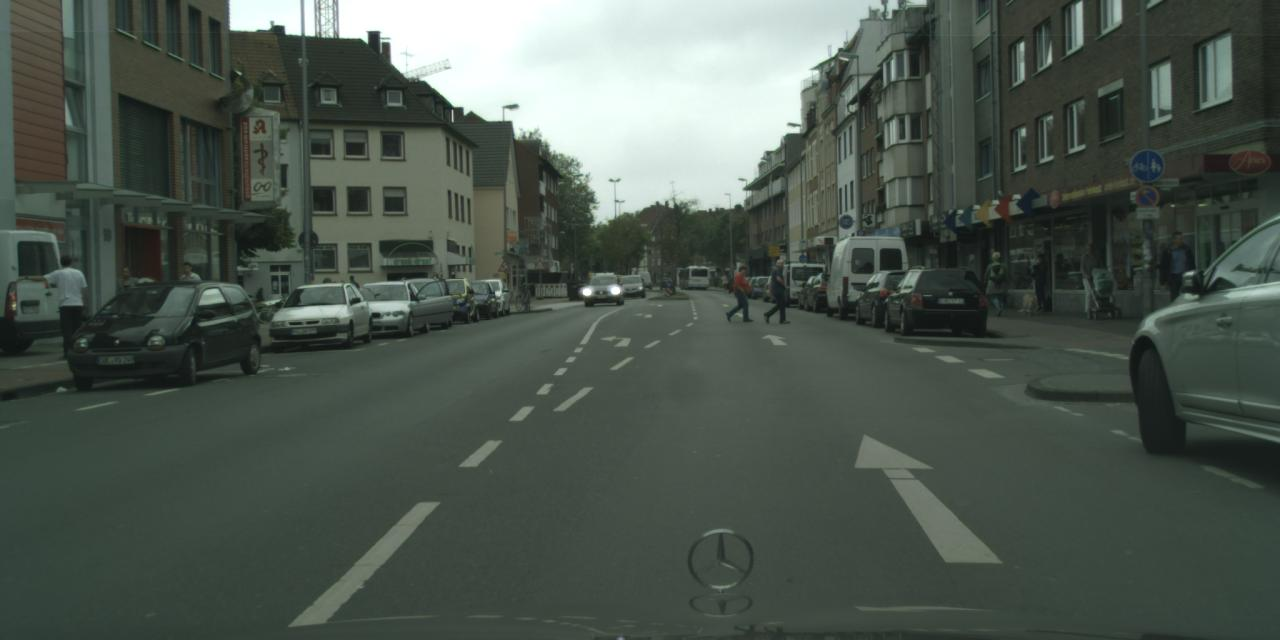ped: (46, 253, 88, 359), (1157, 230, 1199, 335), (110, 266, 142, 344), (174, 261, 204, 336), (1076, 243, 1104, 313), (984, 251, 1010, 316), (764, 258, 788, 321), (1029, 253, 1053, 312), (729, 265, 751, 319), (344, 274, 360, 312), (428, 272, 443, 312), (254, 286, 266, 318), (720, 274, 728, 293)
